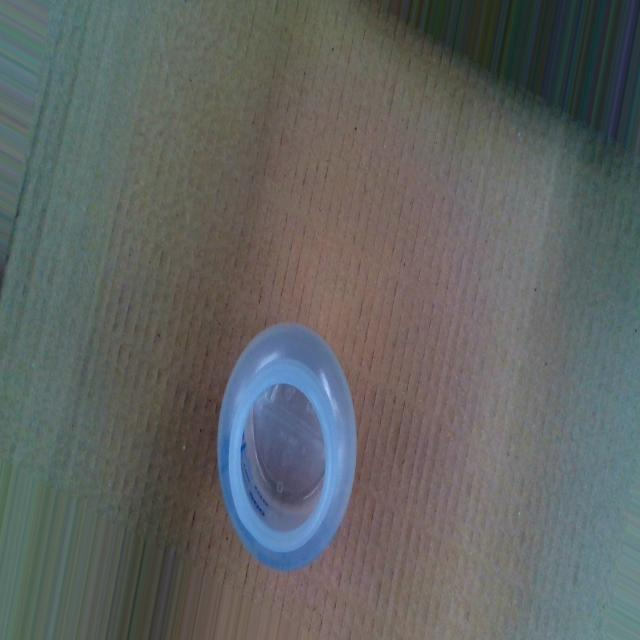bottle: (212, 320, 361, 580)
